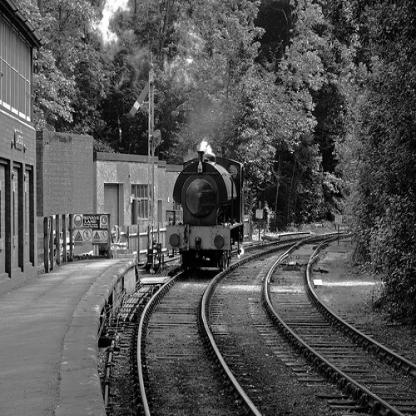train: (166, 148, 246, 272)
